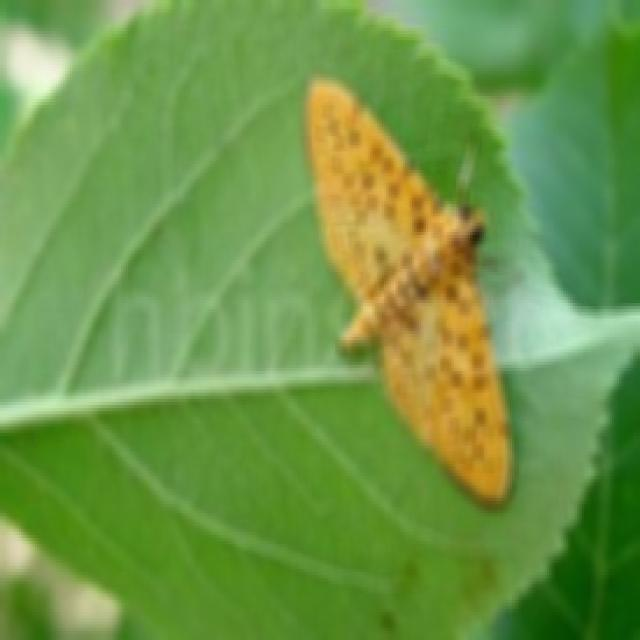peach borer: (300, 77, 517, 507)
